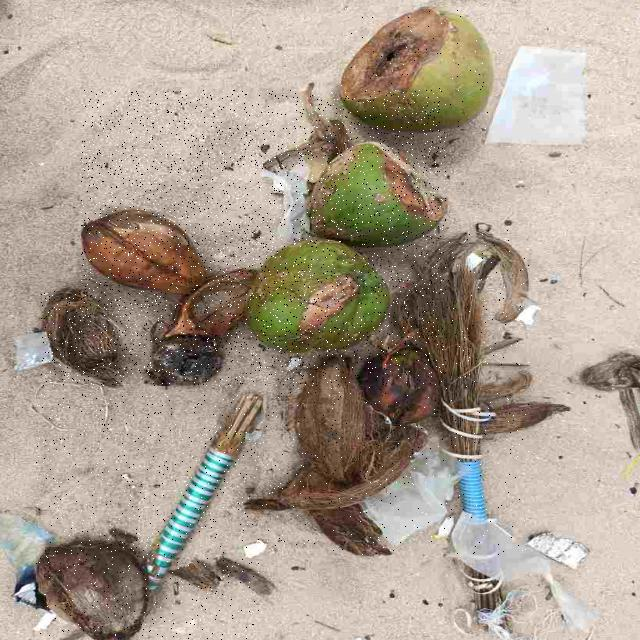biowaste: (82, 90, 446, 386), (248, 229, 529, 556), (36, 394, 262, 640), (342, 8, 491, 129), (249, 237, 388, 351), (41, 290, 124, 387)
